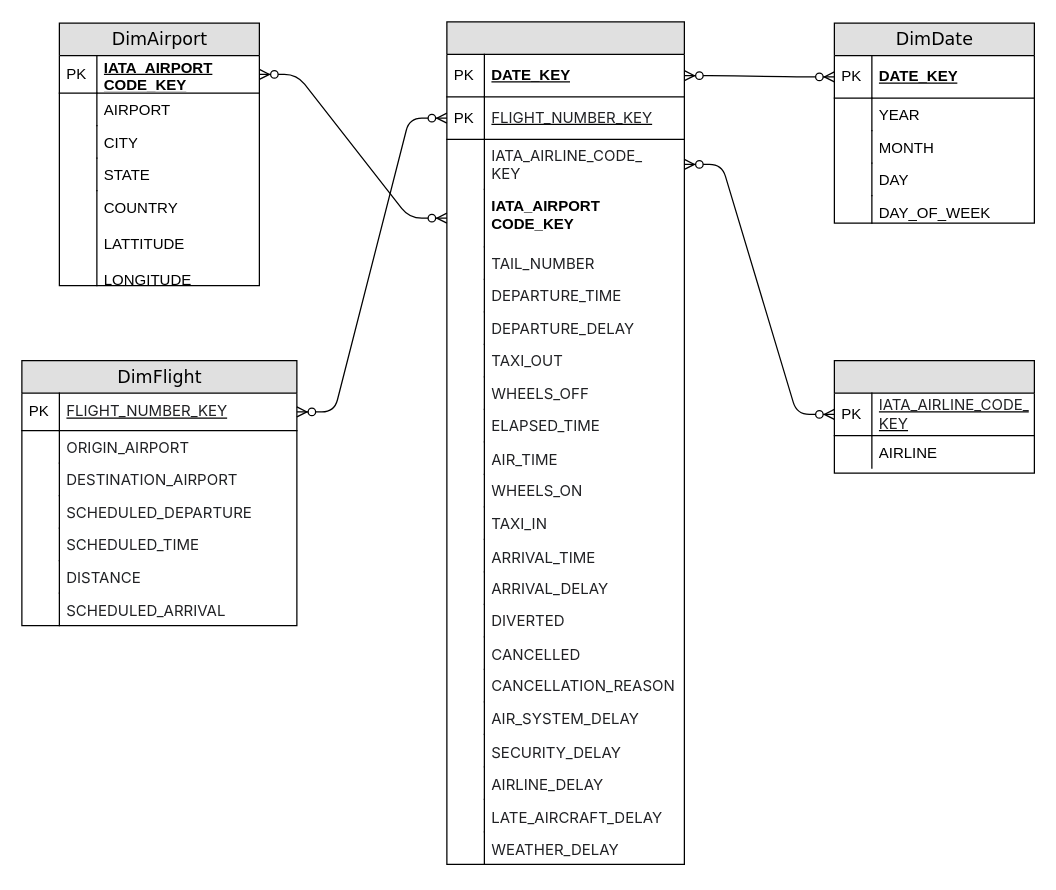
This 1056x890 diagram has some shape labels left out. The box of each missing label's shape, as (x1, y1, x2, y2) in pixels:
DimAirline: (833, 359, 1034, 473)
FactDomesticsFlight: (446, 21, 684, 864)
